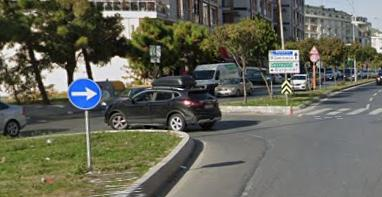turnright: (67, 79, 101, 111)
